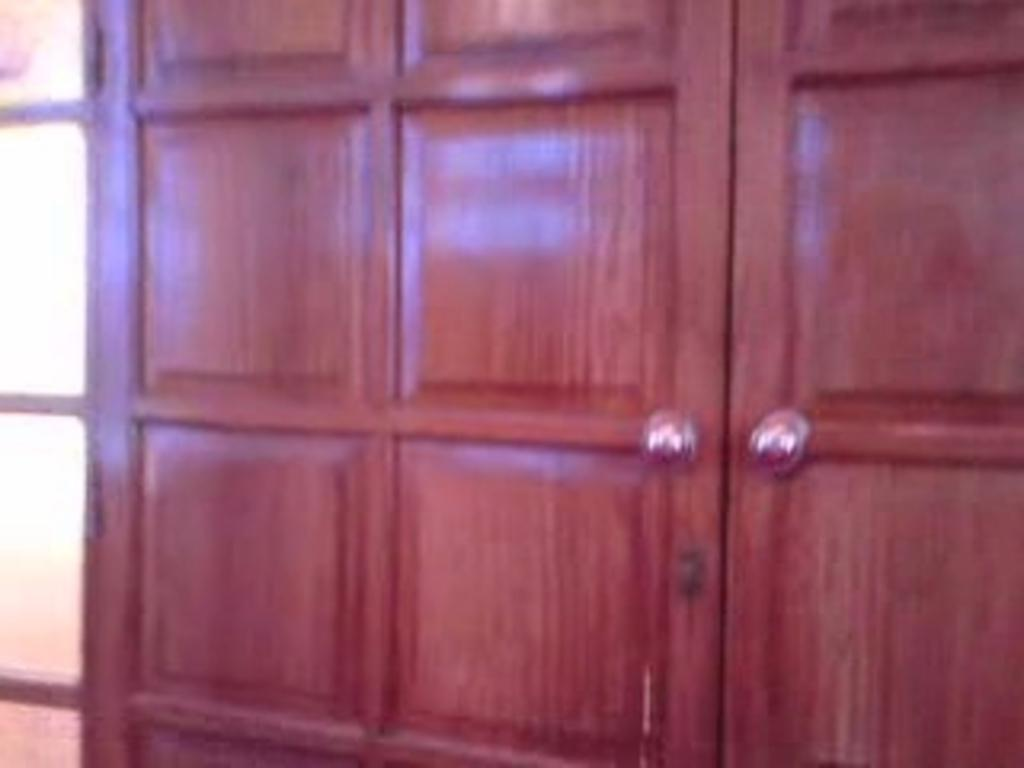handle: (750, 410, 800, 479), (646, 408, 696, 474)
